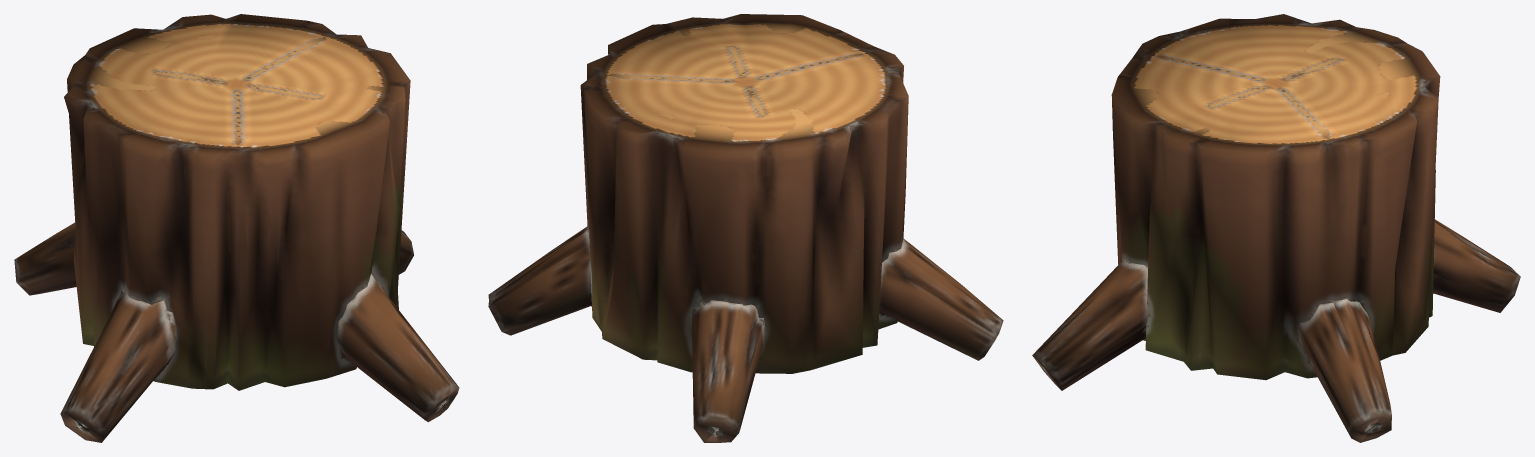
File: stump_seat.glb
The picture shows the model from 3 angles, left to right: view 1: azimuth 30°, elevation 25°; view 2: azimuth 150°, elevation 25°; view 3: azimuth 270°, elevation 25°; orthographic projection. The views are drawn at different scales.
Visible parts, largest first — view 1: stump_seat; view 2: stump_seat; view 3: stump_seat.
Part boxes in pixels (x1,y1,x2,y2): stump_seat: (14,14,459,442); stump_seat: (488,14,1003,442); stump_seat: (1032,14,1520,442).
Size of the model in its own units: 0.8068 by 0.4897 by 0.8111.
Materials: 1 (1 with a texture image).
